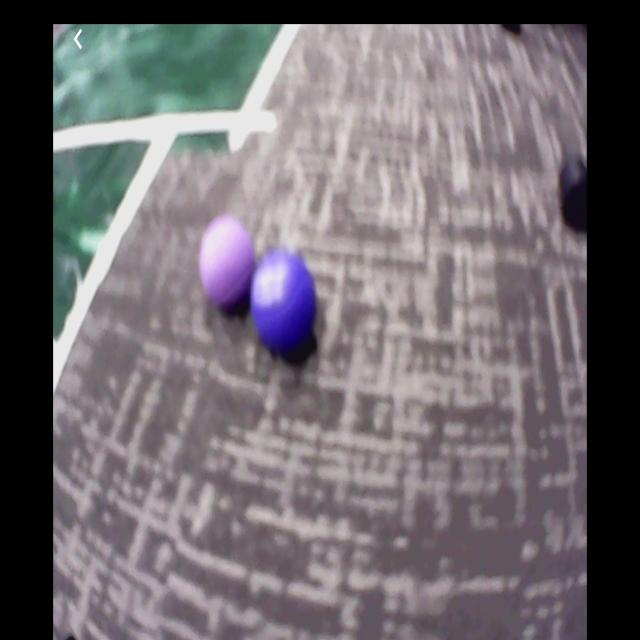ball: (254, 254, 319, 349), (201, 215, 253, 312)
